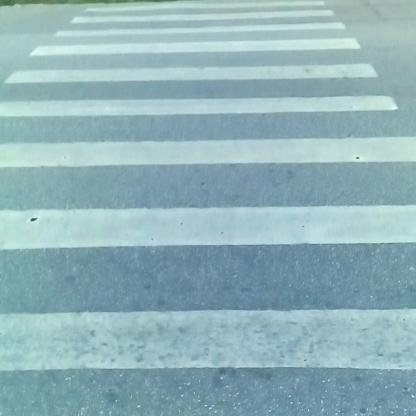crosswalk: (14, 8, 416, 416)
